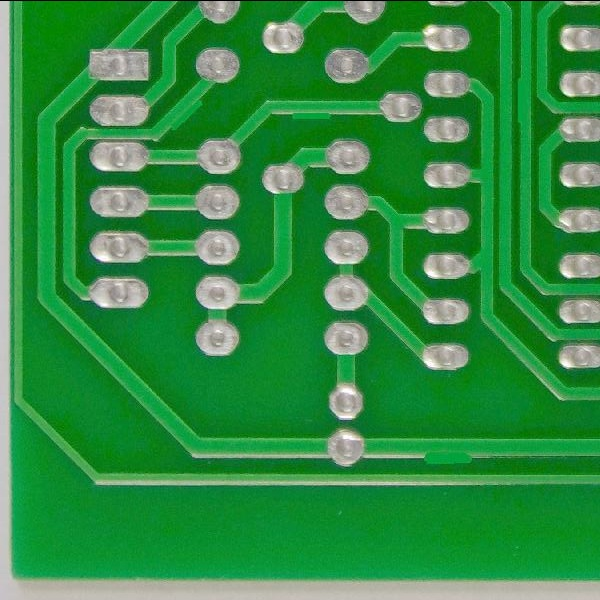spur: (413, 427, 481, 471), (167, 90, 207, 140), (287, 101, 337, 130), (513, 70, 534, 132)
